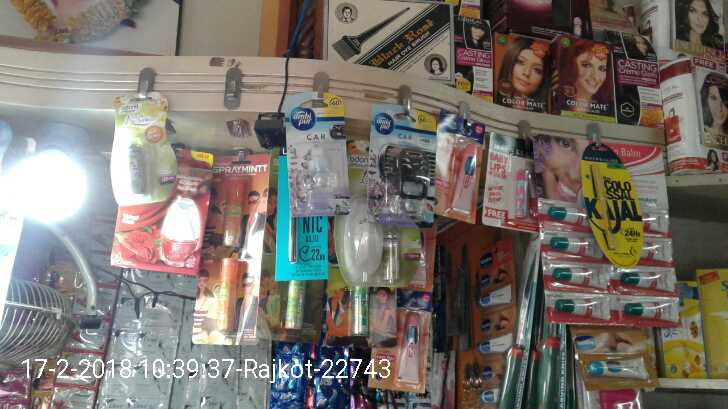ambipure: (368, 107, 434, 231), (285, 100, 353, 214)
